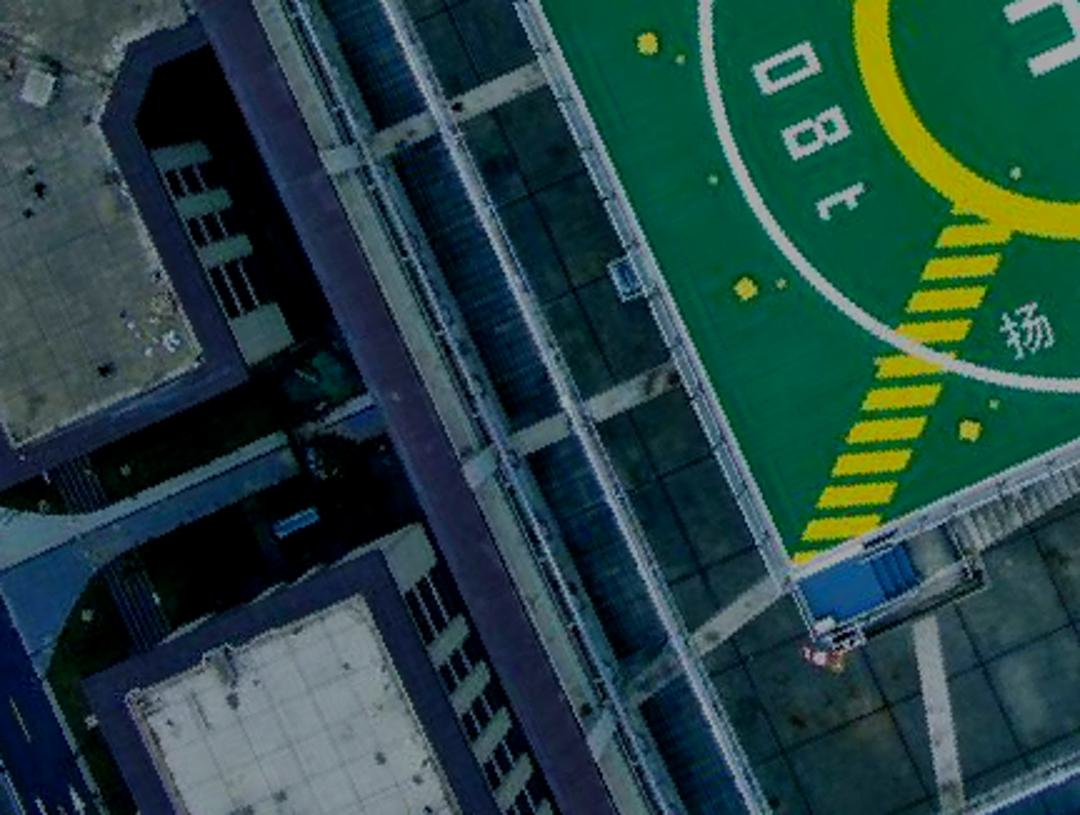Apron: (827, 1, 1077, 262)
